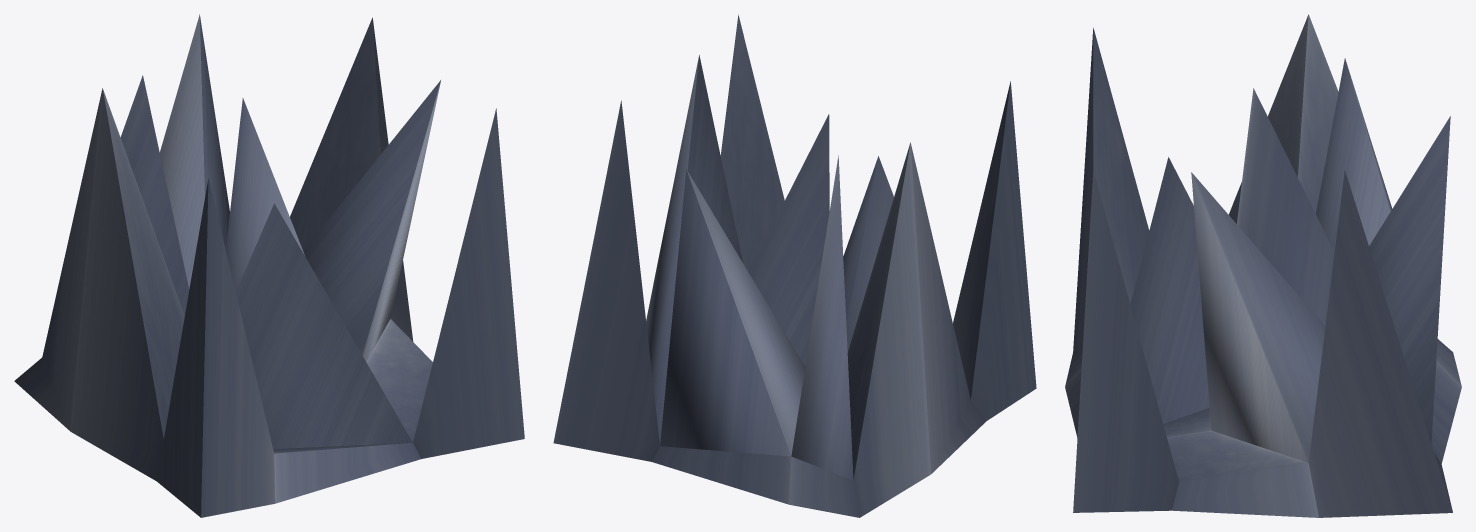
The model's file is Spikes.fbx.
3 views of the same model, side by side, from view 1: azimuth 30°, elevation 25°; view 2: azimuth 150°, elevation 25°; view 3: azimuth 270°, elevation 25° (orthographic). The views are drawn at different scales.
Visible parts, largest first — view 1: pCube205; view 2: pCube205; view 3: pCube205.
Boxes of the visible parts, x1,y1,x2,y2 form: pCube205: (14,14,524,517); pCube205: (553,14,1036,517); pCube205: (1065,14,1461,517).
Bounding box in the file's own units: 119 × 123 × 117.
1 material, 1 textured.
